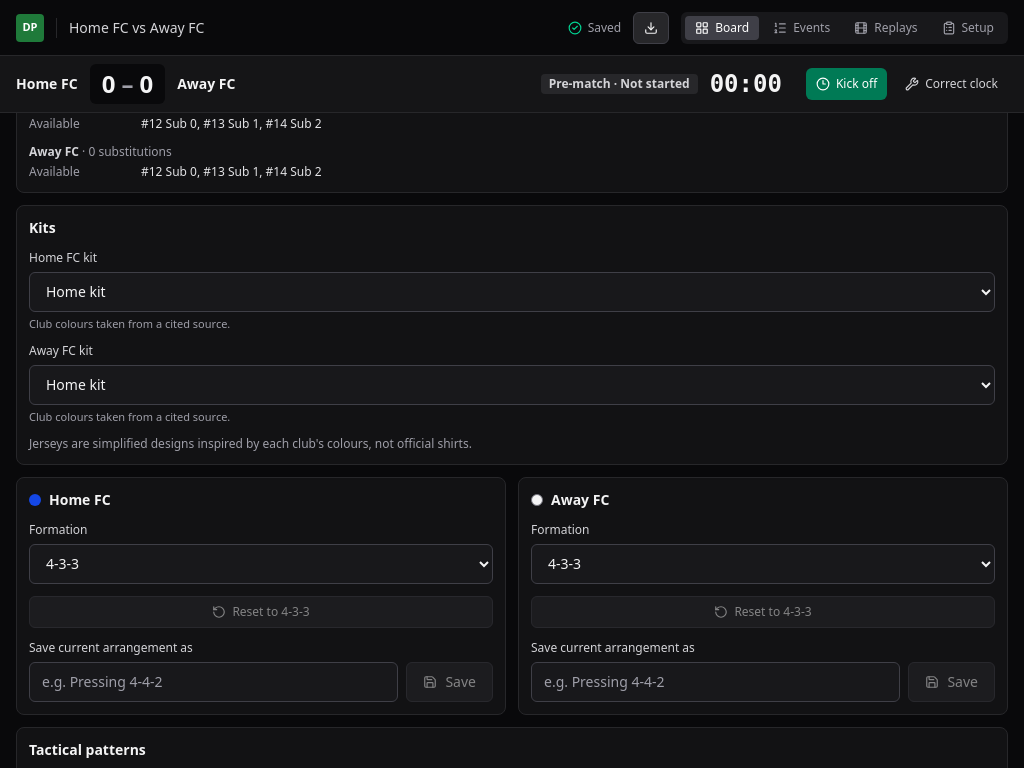
Test: player display mode › lets a side change kit and explains a generic away kit
(page scrolled)
Select "Away kit (generic stand-in)" in the dropdown labelled "Away FC kit" at (512, 385), box [29,365,995,405]
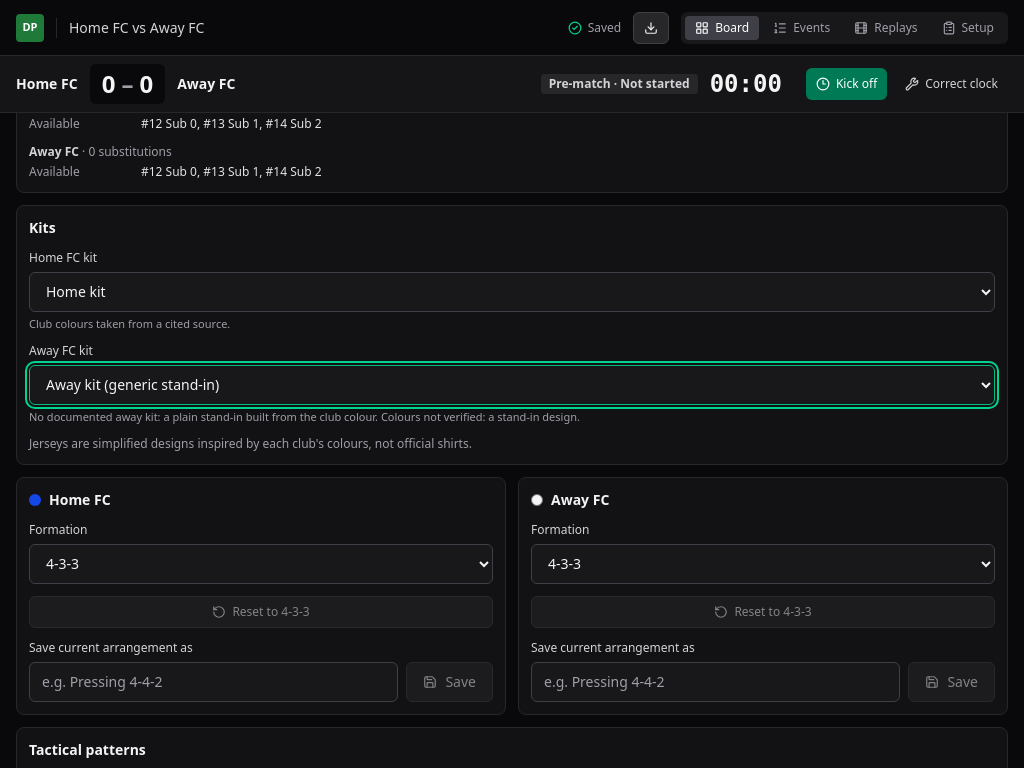
expect the element "Kits" shows "simplified designs": met, box [29,435,472,452]
expect the element "Kits" shows "No documented away kit": met, box [29,409,381,424]
